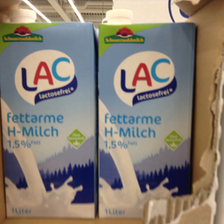milk: (2, 8, 99, 224), (99, 7, 195, 224)
